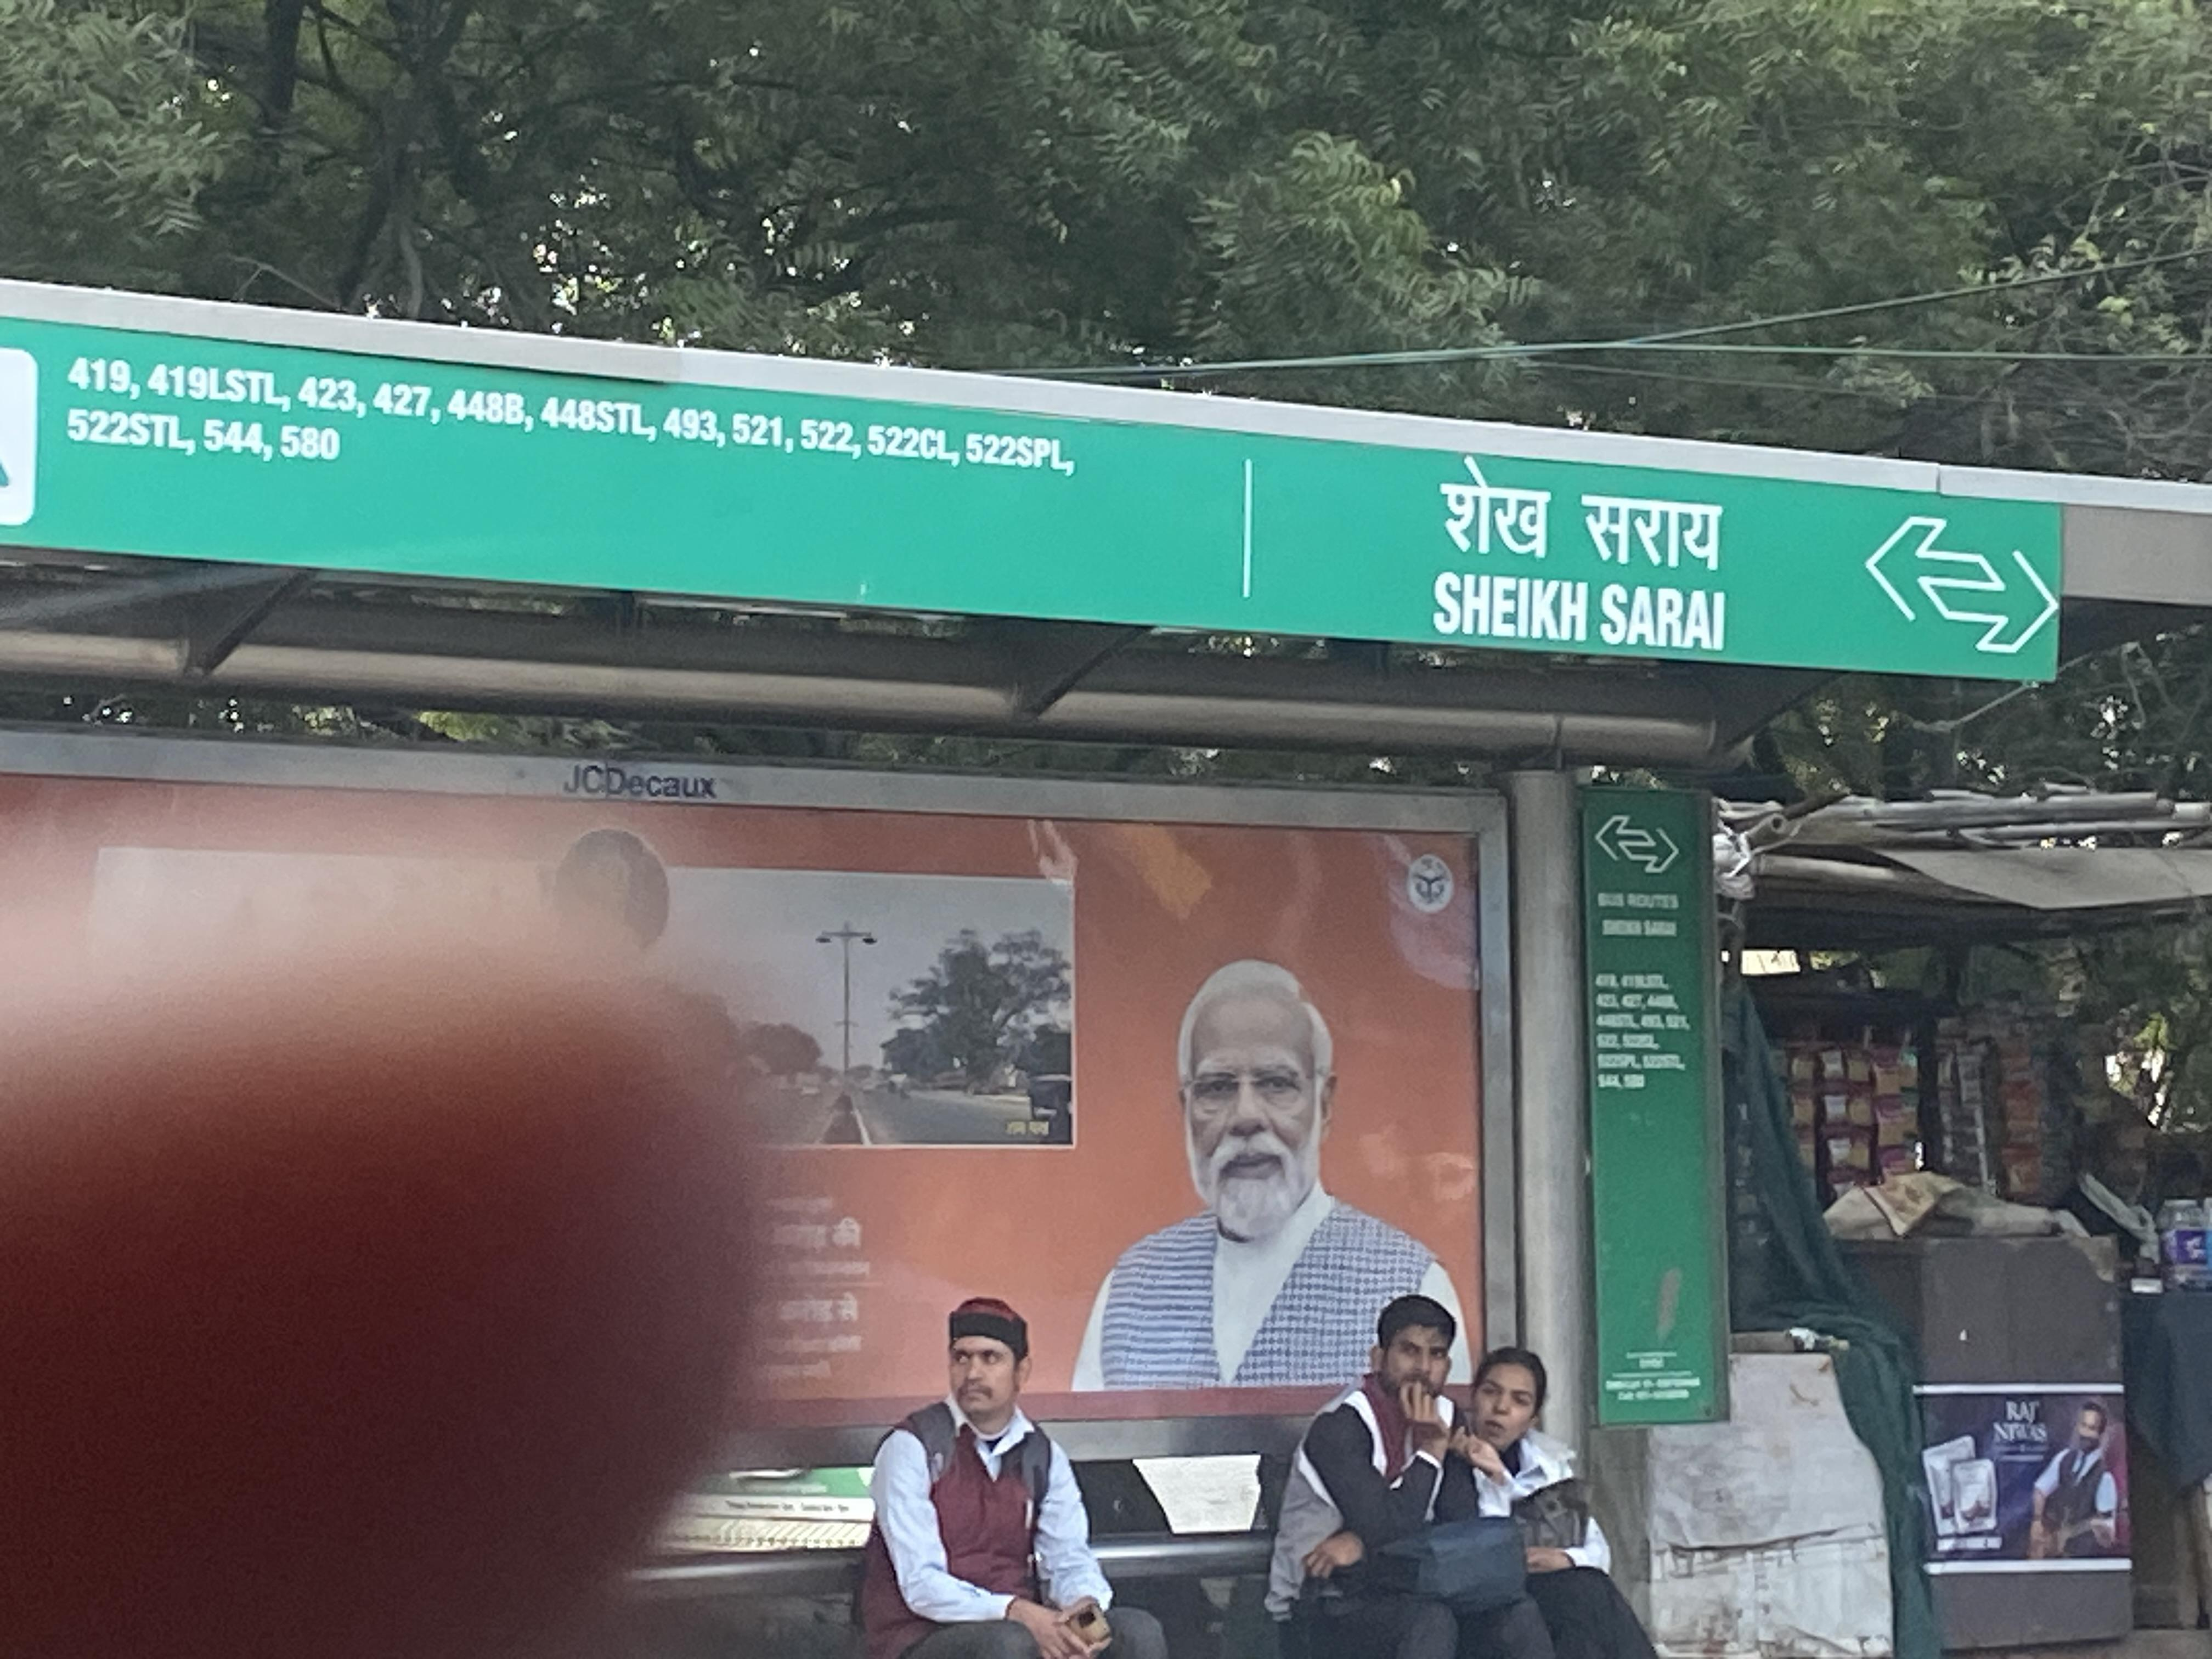Bus-stop-board: (5, 268, 2095, 725)
